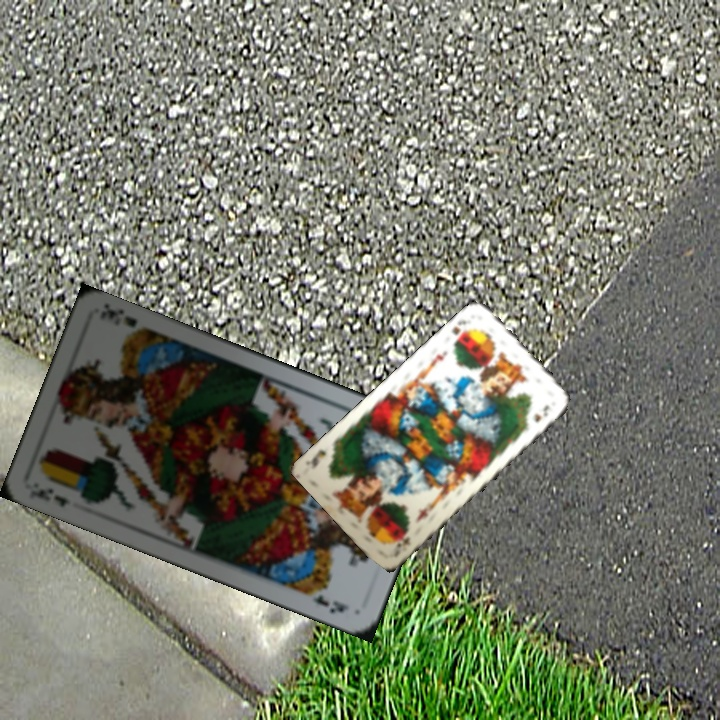EK: (25, 484, 74, 510)
SK: (448, 316, 473, 346), (391, 524, 414, 552)
